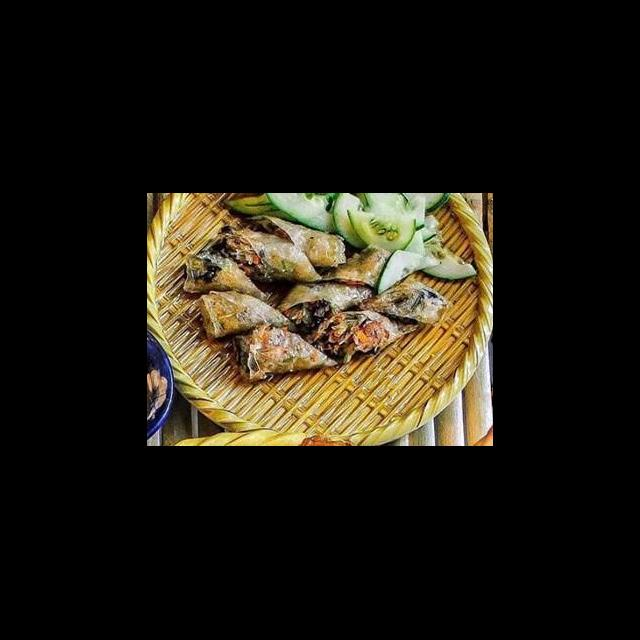cha gio: (294, 252, 413, 322), (218, 274, 346, 336), (317, 348, 425, 420), (360, 326, 461, 399), (340, 288, 443, 354), (286, 366, 392, 426), (263, 309, 368, 362), (188, 310, 288, 360), (242, 346, 328, 399)
